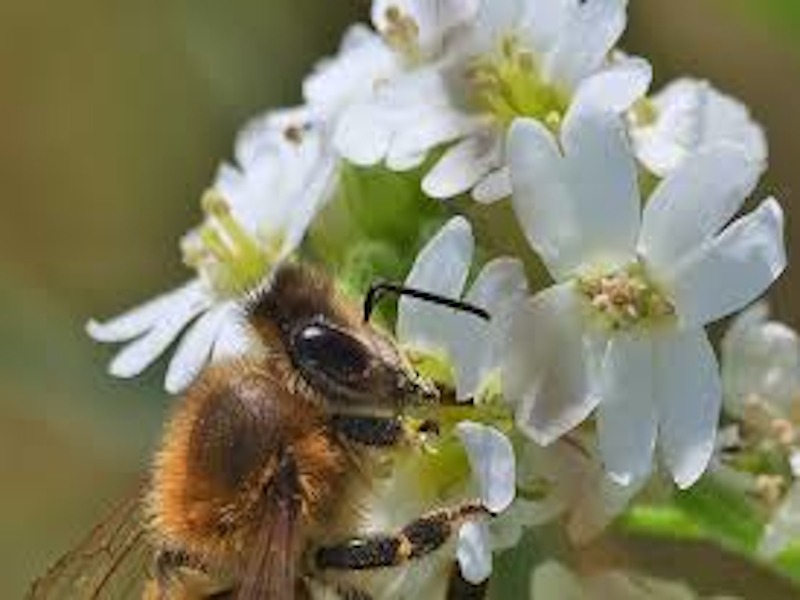abeja: (35, 217, 572, 600)
